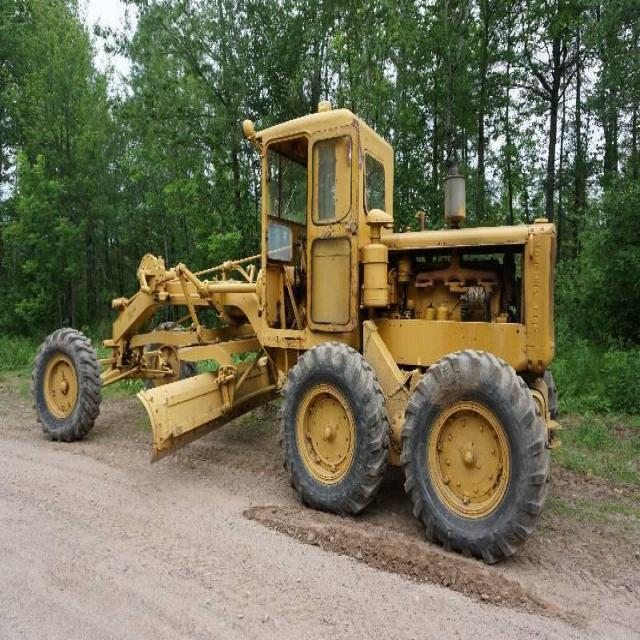Grader: (28, 109, 562, 573)
